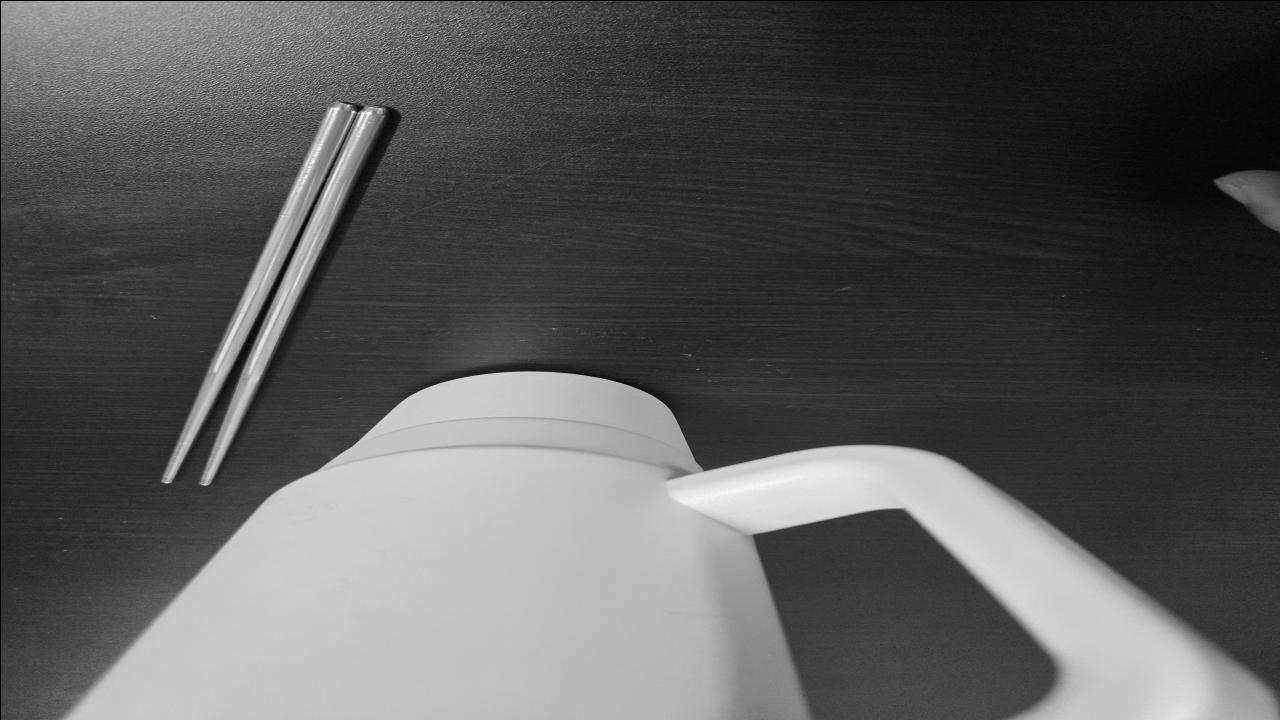chopstick: (154, 98, 401, 488)
